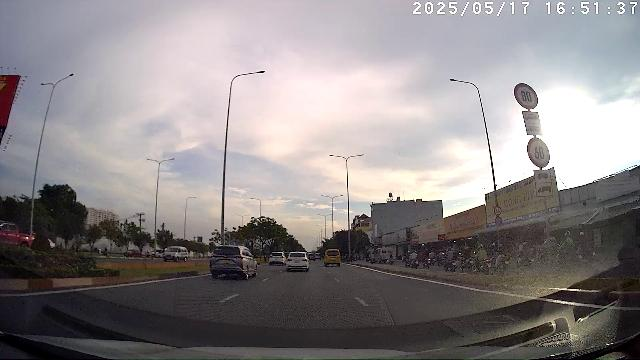127-toc-do-toi-da-60: (527, 137, 551, 168)
127-toc-do-toi-da-80: (513, 82, 539, 110)
